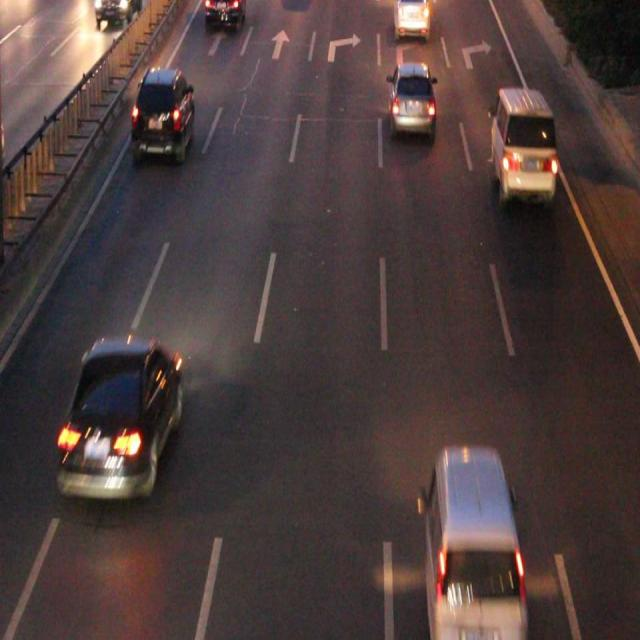car: (62, 340, 181, 492), (134, 72, 193, 154), (389, 66, 434, 133), (392, 1, 428, 37), (205, 1, 244, 29)
truck: (423, 452, 523, 640), (490, 88, 553, 196)
